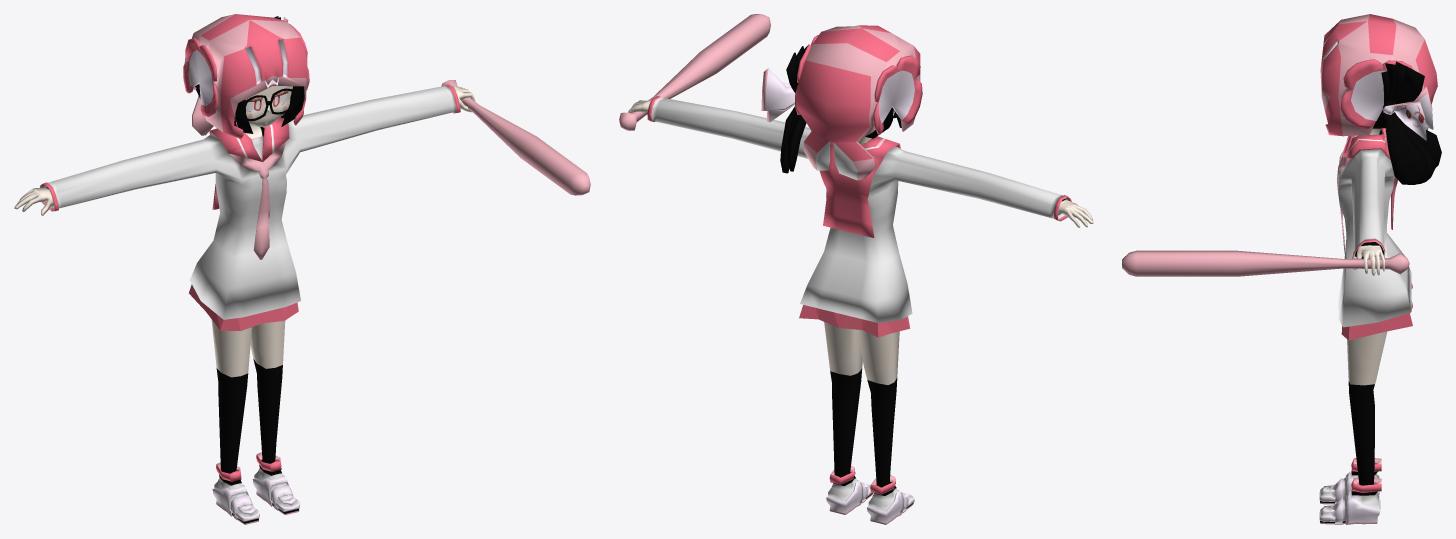
File: HanaModel.fbx
The picture shows the model from 3 angles, left to right: view 1: azimuth 30°, elevation 25°; view 2: azimuth 150°, elevation 25°; view 3: azimuth 270°, elevation 25°; orthographic projection.
Visible parts, largest first — view 1: Cube; view 2: Cube; view 3: Cube.
Boxes of the visible parts, x1=… form: Cube: x1=14, y1=14, x2=590, y2=524; Cube: x1=619, y1=14, x2=1093, y2=524; Cube: x1=1122, y1=14, x2=1441, y2=524.
Size of the model in its own units: 48.3 by 48.64 by 28.73.
Materials: 4 (3 with a texture image).
